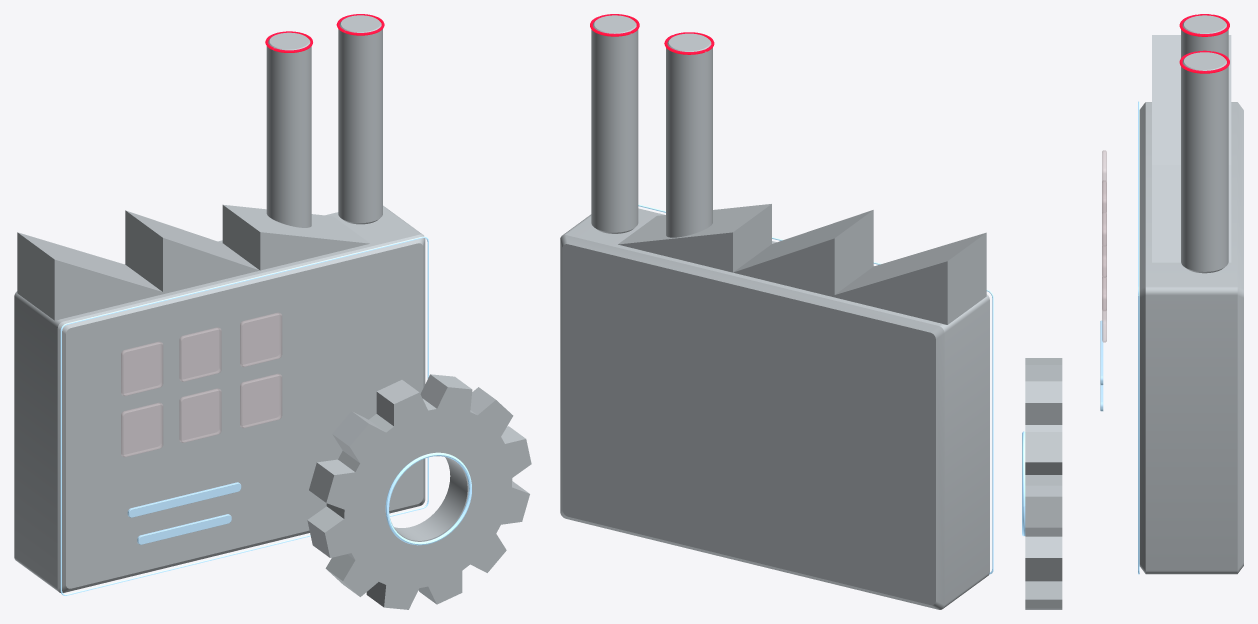
The model's file is 08-industry-solutions.glb.
3 views of the same model, side by side, from view 1: azimuth 30°, elevation 25°; view 2: azimuth 150°, elevation 25°; view 3: azimuth 270°, elevation 25° (orthographic). The views are drawn at different scales.
Parts seen in each view (by area): view 1: BC thin clear technical glass, BC subtle ruby technical glass, BC cool glass edge, BC etched pale glass; view 2: BC thin clear technical glass, BC cool glass edge, BC ruby signal edge; view 3: BC thin clear technical glass, BC cool glass edge, BC subtle ruby technical glass, BC ruby signal edge, BC etched pale glass.
Boxes of the visible parts, x1,y1,x2,y2 form: BC thin clear technical glass: (14, 15, 531, 609); BC subtle ruby technical glass: (121, 312, 282, 457); BC cool glass edge: (60, 236, 471, 595); BC etched pale glass: (127, 482, 241, 544); BC thin clear technical glass: (560, 15, 989, 609); BC cool glass edge: (638, 204, 993, 574); BC ruby signal edge: (590, 14, 714, 54); BC thin clear technical glass: (1025, 15, 1243, 609); BC cool glass edge: (1022, 101, 1139, 574); BC subtle ruby technical glass: (1102, 150, 1106, 342); BC ruby signal edge: (1179, 14, 1229, 73); BC etched pale glass: (1100, 320, 1103, 411).
Size of the model in its own units: 1.93 by 2.28 by 0.8402.
